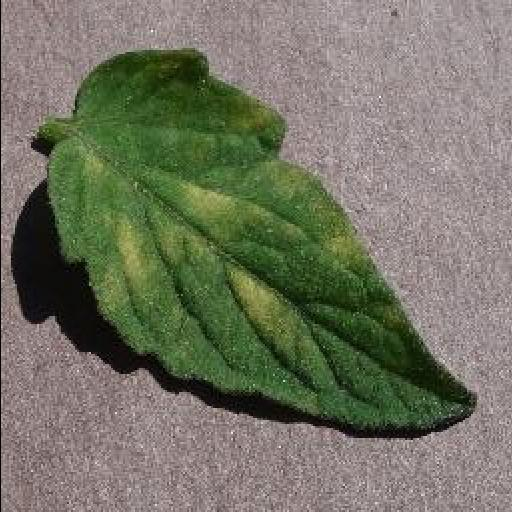disease_tomato: (42, 48, 476, 434)
